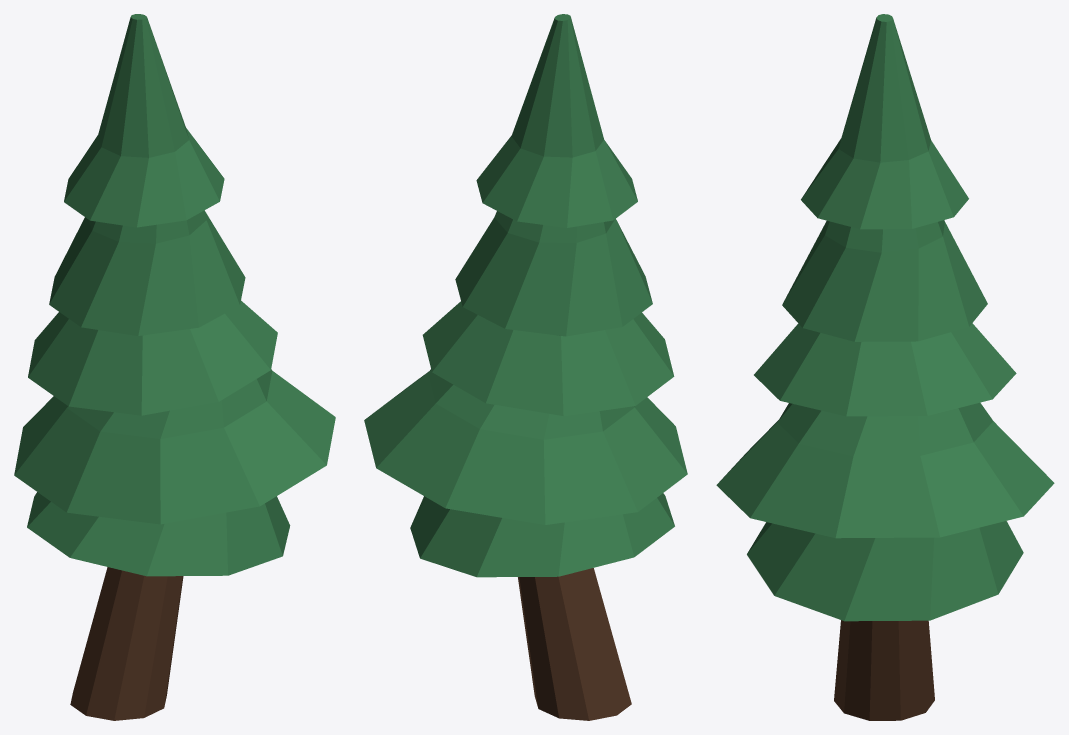
Rendered from Tree_2.fbx.
3 views of the same model, side by side, from view 1: azimuth 30°, elevation 25°; view 2: azimuth 150°, elevation 25°; view 3: azimuth 270°, elevation 25° (orthographic). The views are drawn at different scales.
Visible parts, largest first — view 1: M_Tree 2; view 2: M_Tree 2; view 3: M_Tree 2.
Part boxes in pixels (x1,y1,x2,y2): M_Tree 2: (14,14,335,720); M_Tree 2: (364,14,687,720); M_Tree 2: (716,14,1054,720).
Bounding box in the file's own units: 0.6116 × 1.45 × 0.6429.
1 material, 1 textured.
